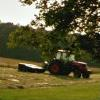Tractor: (37, 38, 95, 82)
